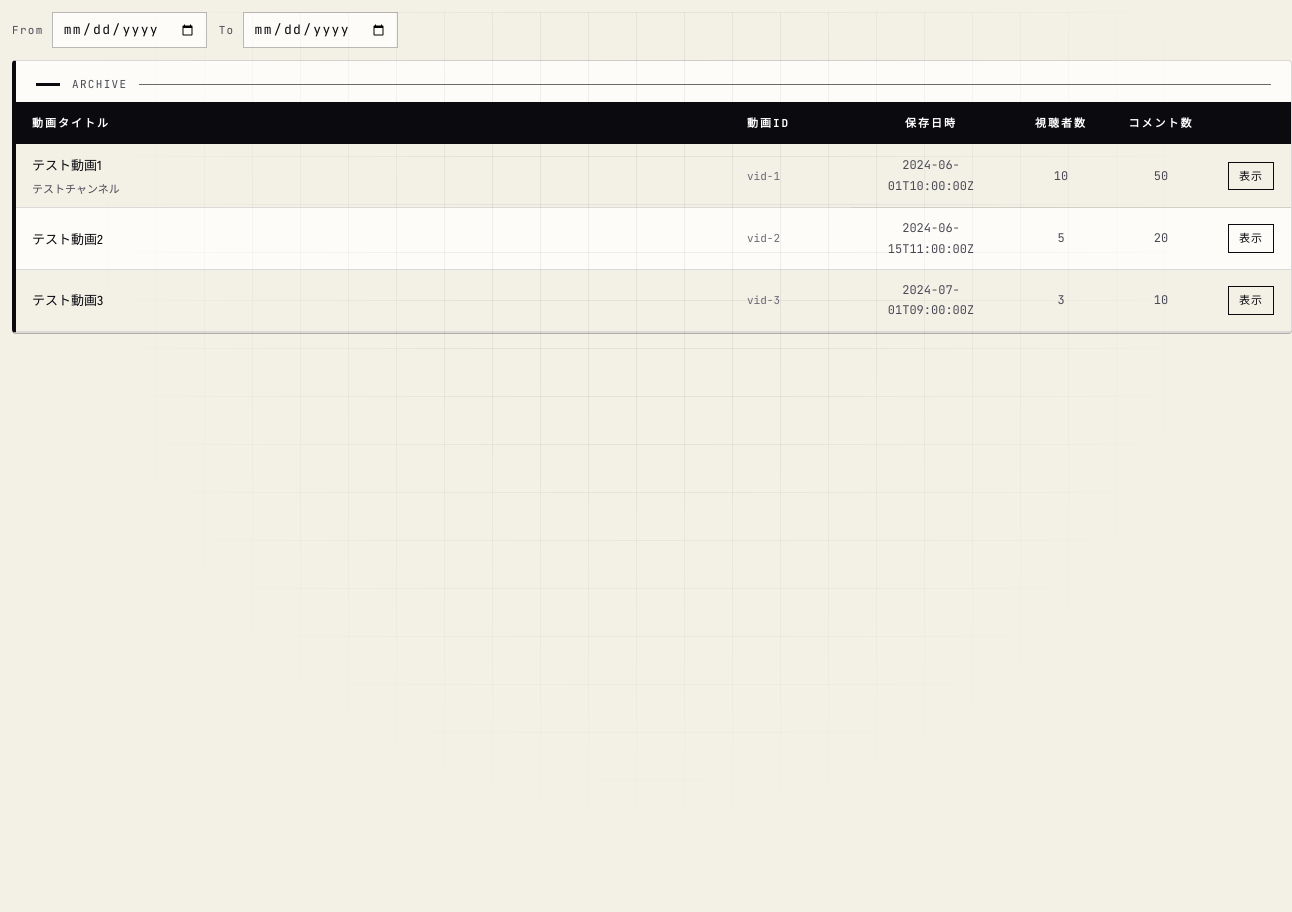
Scenario: HistoryList › from と to 両方指定すると範囲内のみ表示される
In the date field labelled "From": (129, 30) [52,12,207,48], type "2024-06-10"
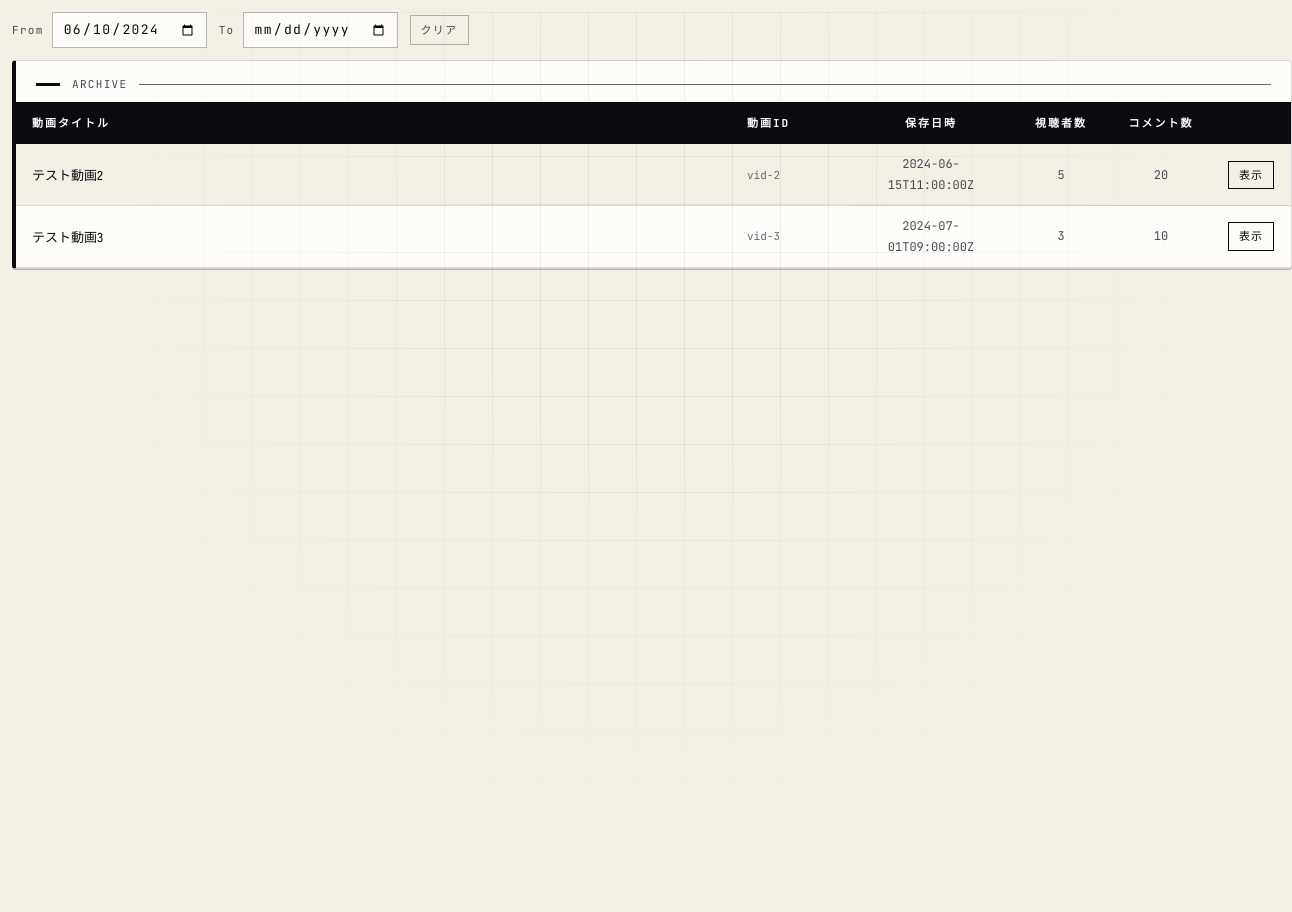
In the date field labelled "To": (320, 30) [242,12,398,48], type "2024-06-20"
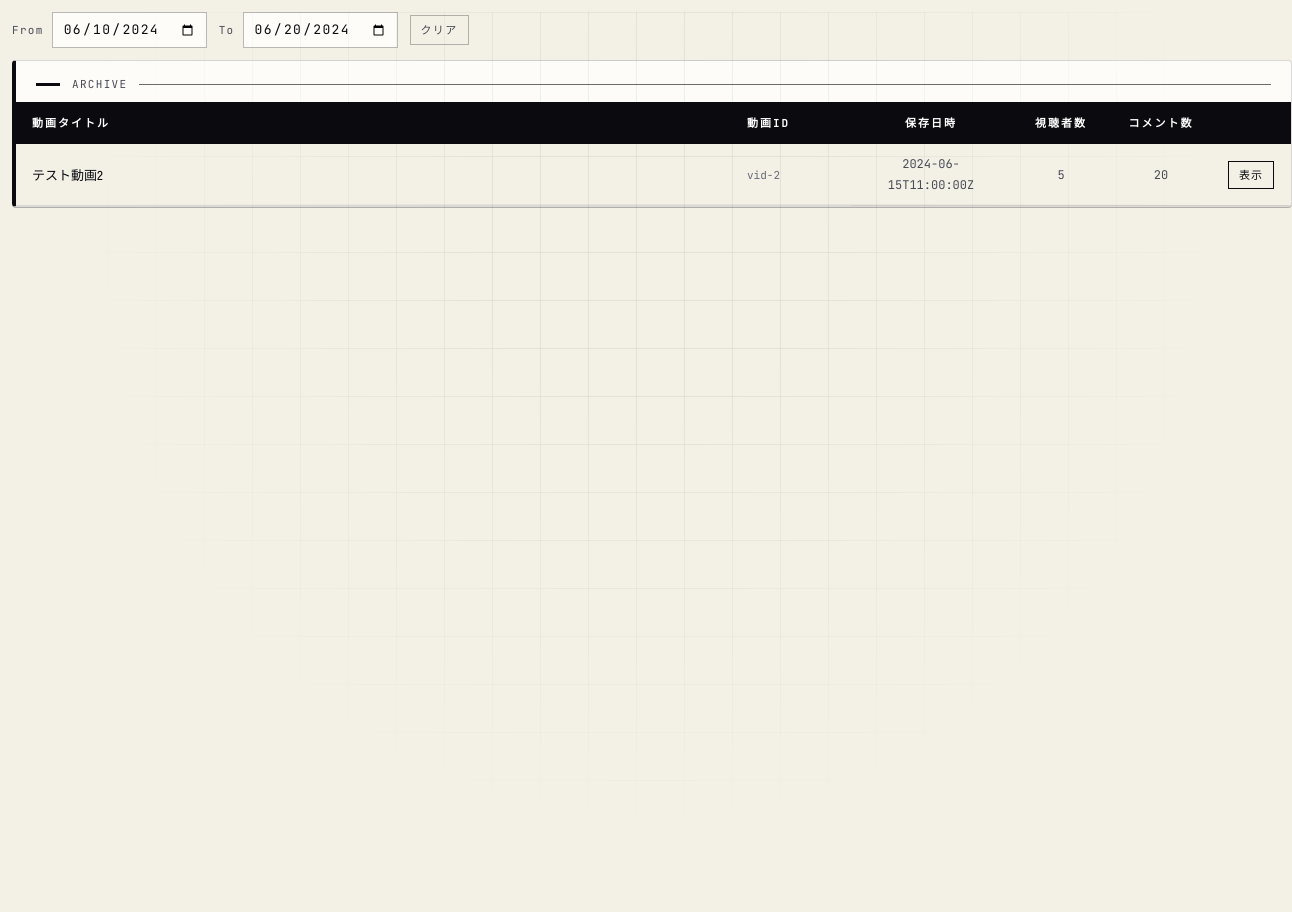
Expected: the text "vid-1" is not shown
Now the text "vid-3" is gone
